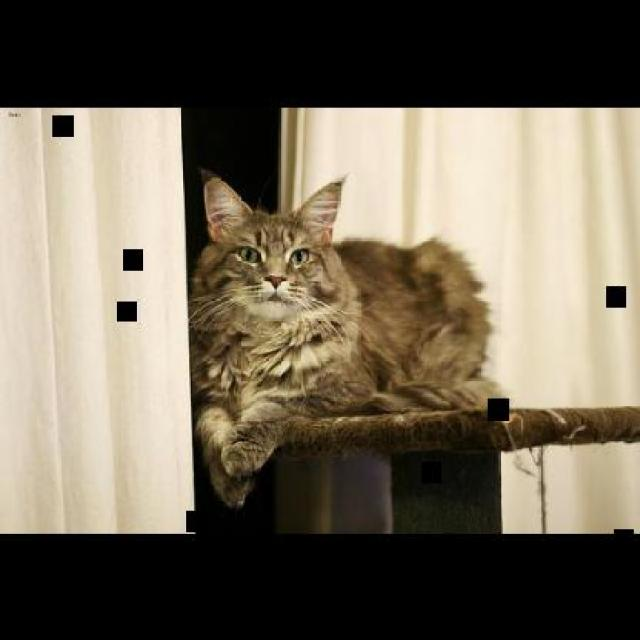unauthorized: (186, 166, 506, 509)
